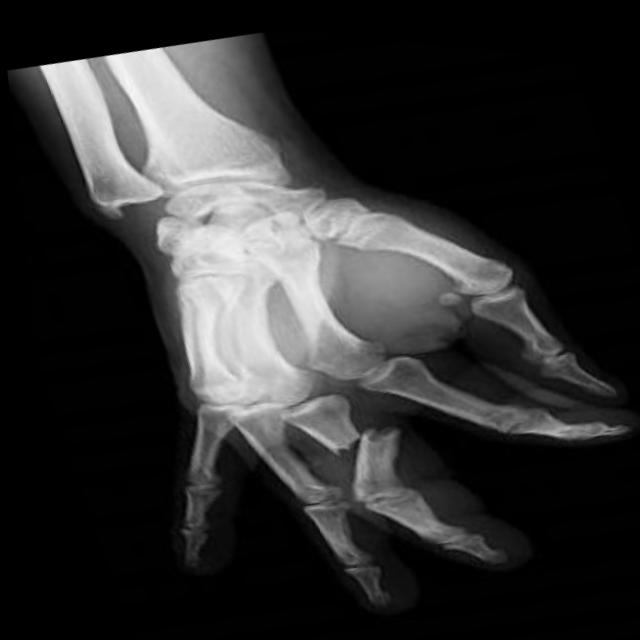fracture: (314, 396, 400, 463)
